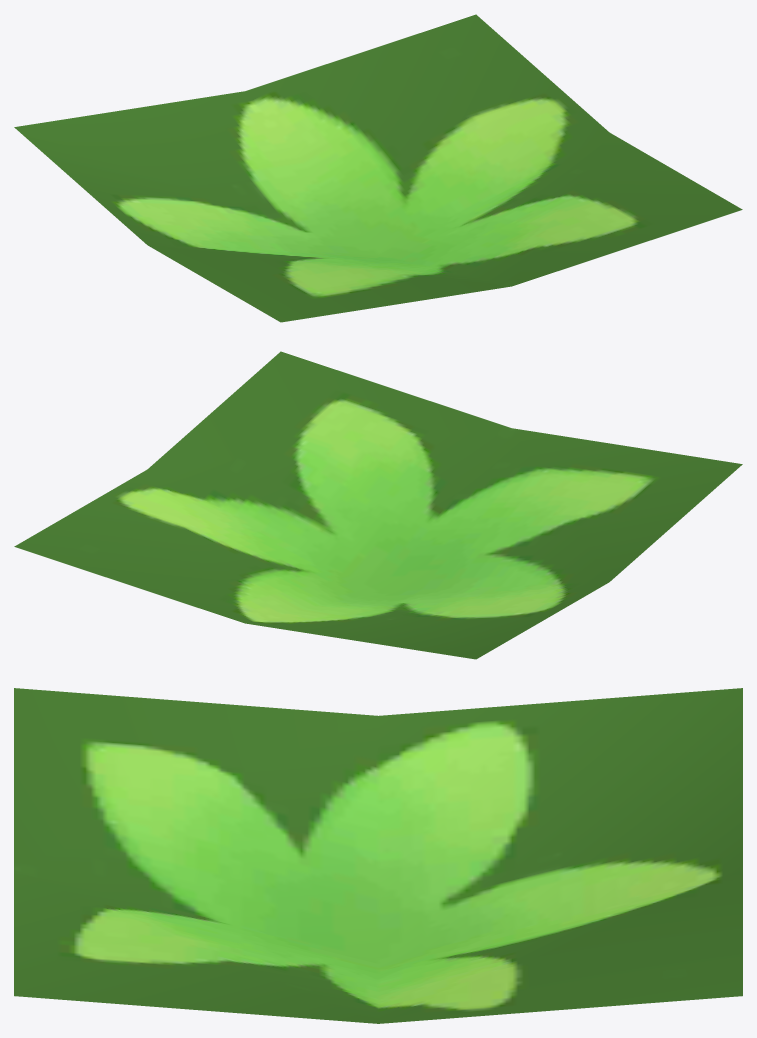
Rendered from 0155_T_ZhenYin_Cao02.glb.
3 renders of one model, top to bottom at view 1: azimuth 30°, elevation 25°; view 2: azimuth 150°, elevation 25°; view 3: azimuth 270°, elevation 25°, orthographic. The views are drawn at different scales.
Size of the model in its own units: 2.2 by 0.3925 by 2.2.
Materials: 1 (1 with a texture image).
